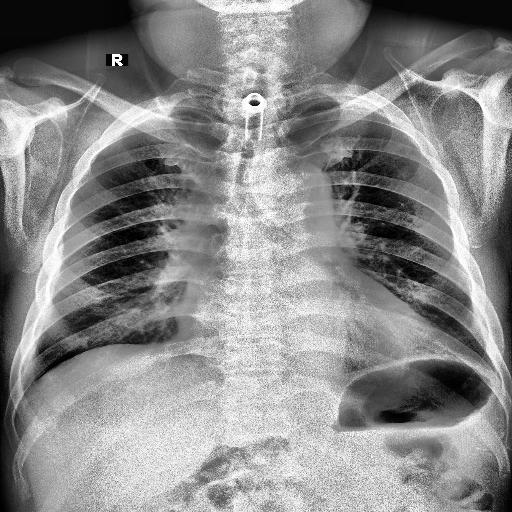0- Aortic enlargement: (244, 159, 328, 221), (259, 156, 334, 216), (268, 166, 335, 230)
3- Cardiomegaly: (178, 284, 460, 370), (170, 302, 454, 358), (172, 304, 442, 358)
